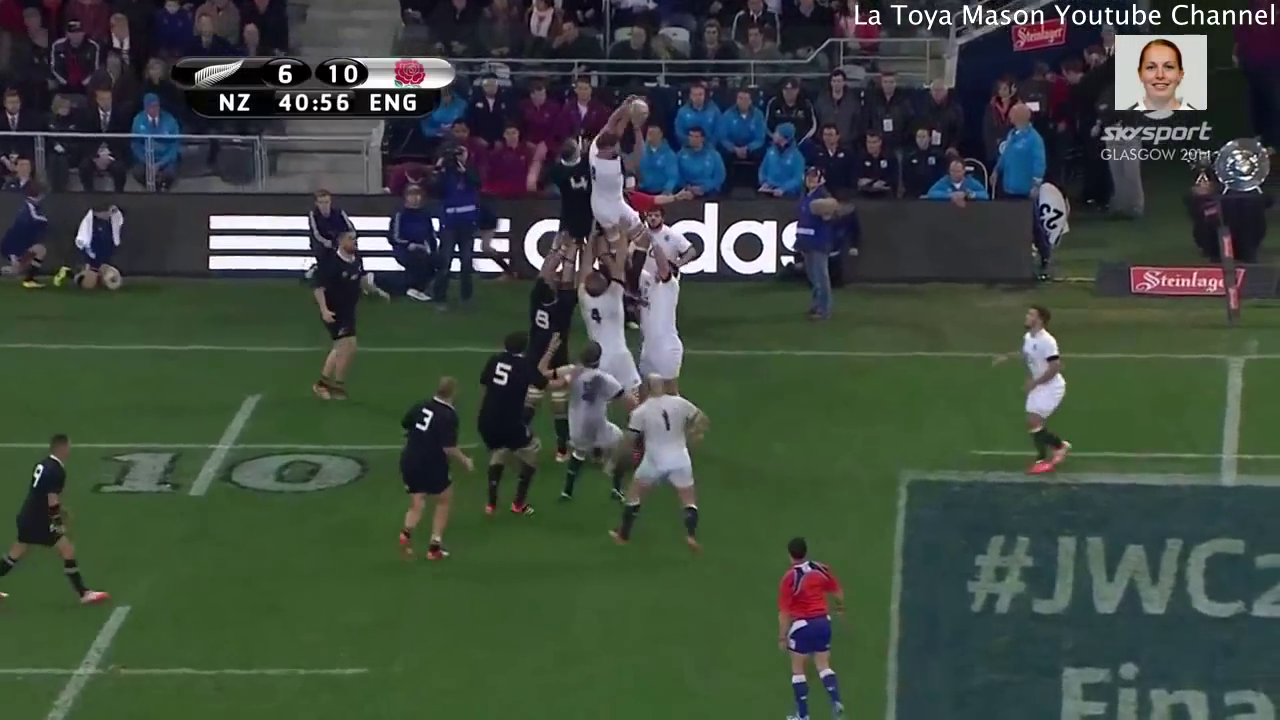10_metre: (1, 384, 458, 508), (1, 601, 378, 720)
ball: (621, 93, 652, 127)
player: (616, 371, 725, 564), (1, 428, 113, 613), (764, 531, 861, 720), (989, 301, 1083, 487), (389, 372, 476, 568), (520, 249, 583, 461), (549, 338, 629, 504), (478, 332, 542, 519), (307, 226, 370, 407), (591, 94, 658, 255), (576, 248, 644, 400), (631, 250, 687, 395), (549, 136, 598, 261), (642, 204, 704, 276)
